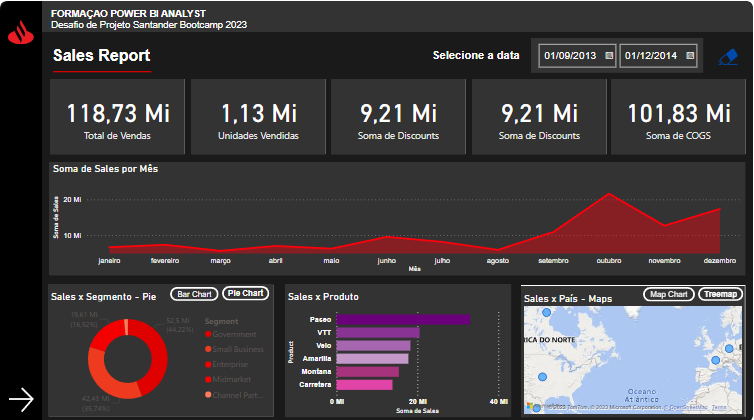

What the dashboard file says about the page in this screenshot:
{"tool":"powerbi","page":{"name":"Página 1","canvas":[1280,720],"ordinal":0},"visuals":[{"type":"shape","box":[11.7,8.3,1255,701.7],"z":0},{"type":"slicer","fields":{"Values":["financials.Date"]},"box":[895.5,69.3,286.9,58],"z":0,"group":"g2"},{"type":"shape","box":[99.7,121.2,164.2,12.3],"z":0,"group":"g5"},{"type":"shape","box":[94.3,138.6,224.3,125],"z":0,"group":"g1"},{"type":"shape","box":[880.3,482.4,374.4,218.9],"z":0,"group":"g3"},{"type":"shape","box":[11.7,8.3,70,701.7],"z":1000},{"type":"textbox","box":[92.7,80.5,186.8,40.7],"z":1000,"group":"g5"},{"type":"textbox","box":[712.5,82.9,183,34.7],"z":1000,"group":"g2"},{"type":"shape","box":[328.6,138.6,224.3,125],"z":1000,"group":"g1"},{"type":"donutChart","title":"Sales x Segmento - Pie","fields":{"Category":["financials.Segment"],"Y":["Sum(financials. Sales)"]},"box":[91,480.5,376.1,221],"z":1000,"group":"g4"},{"type":"map","title":"Sales x País - Maps","fields":{"Category":["financials.Country"],"Size":["Sum(financials. Sales)"]},"box":[880.1,482.4,373,219],"z":1000,"group":"g3"},{"type":"actionButton","title":"Botão - Treemap","box":[1174.4,485.6,75.6,23.3],"z":1500,"group":"g3"},{"type":"actionButton","title":"Botão - Map","box":[1083,485.6,86.7,24.4],"z":1750,"group":"g3"},{"type":"image","box":[10,33.3,71.7,53.3],"z":2000},{"type":"image","box":[1199.5,79.2,50.4,41.8],"z":2000,"group":"g2"},{"type":"shape","box":[562.9,138.6,224.3,125],"z":2000,"group":"g1"},{"type":"actionButton","title":"Botão - Bar","box":[294,485.6,81.1,23.3],"z":2000,"group":"g4"},{"type":"shape","box":[81.7,8.3,1185,51.7],"z":3000},{"type":"shape","box":[797.2,138.6,224.3,125],"z":3000,"group":"g1"},{"type":"actionButton","title":"Botão - Pie","box":[381.1,484.4,78.9,24.4],"z":3000,"group":"g4"},{"type":"textbox","box":[92.2,17.3,439.2,51.8],"z":4000},{"type":"shape","box":[1030,138.6,224,125],"z":4000,"group":"g1"},{"type":"group","id":"g1","title":"Cartões","box":[94.3,138.6,1160,125.7],"z":5000},{"type":"card","fields":{"Values":["Sum(financials. Sales)"]},"box":[94.3,138.6,224.3,125.7],"z":5000,"group":"g1"},{"type":"card","fields":{"Values":["Sum(financials.Units Sold)"]},"box":[328.6,138.6,224.3,125.7],"z":6000,"group":"g1"},{"type":"shape","box":[488.2,481,374.4,218.9],"z":6000},{"type":"card","fields":{"Values":["Sum(financials.Discounts)"]},"box":[562.9,138.6,224.3,125.7],"z":7000,"group":"g1"},{"type":"shape","box":[93.6,481,374,218.9],"z":7000},{"type":"card","fields":{"Values":["Sum(financials.Discounts)"]},"box":[797.2,138.6,224.3,125.7],"z":8000,"group":"g1"},{"type":"shape","box":[92.9,277.1,1157.1,188.6],"z":8000},{"type":"card","fields":{"Values":["Sum(financials.COGS)"]},"box":[1030,138.6,224.3,125.7],"z":9000,"group":"g1"},{"type":"stackedAreaChart","fields":{"Category":["financials.Date.Variation.Hierarquia de datas.Mês"],"Y":["Sum(financials. Sales)"]},"box":[94.3,277.1,1158.6,188.6],"z":9000},{"type":"clusteredBarChart","title":"Sales x Produto","fields":{"Category":["financials.Product"],"Y":["Sum(financials. Sales)"]},"box":[486.7,480,376.7,221.7],"z":10000},{"type":"group","id":"g2","title":"Filtro por data","box":[712.5,69.3,537.4,58],"z":11000},{"type":"actionButton","box":[1200,68.6,50,58.6],"z":12000},{"type":"group","id":"g3","title":"Sales x Country","box":[880,481.6,374.7,220.5],"z":13000},{"type":"group","id":"g4","title":"Sales x Segment","box":[91,479.1,376.1,222.4],"z":14000},{"type":"group","id":"g5","title":"Title Report","box":[92.7,80.5,186.8,53],"z":15000},{"type":"actionButton","box":[20,647.1,52.9,52.9],"z":16000}]}

Visuals, with their boxes in screenshot pixels (x1, y1, x2, y2), scaled from the page's 1280x720 canvas onto the 754x420 screenshot:
shape: 7:5:746:414
slicer - financials.Date: 528:40:697:74
shape: 59:71:155:78
shape: 56:81:188:154
shape: 519:281:739:409
shape: 7:5:48:414
textbox: 55:47:165:71
textbox: 420:48:528:69
shape: 194:81:326:154
"Sales x Segmento - Pie" donutChart: 54:280:275:409
"Sales x País - Maps" map: 518:281:738:409
"Botão - Treemap" actionButton: 692:283:736:297
"Botão - Map" actionButton: 638:283:689:298
image: 6:19:48:51
image: 707:46:736:71
shape: 332:81:464:154
"Botão - Bar" actionButton: 173:283:221:297
shape: 48:5:746:35
shape: 470:81:602:154
"Botão - Pie" actionButton: 224:283:271:297
textbox: 54:10:313:40
shape: 607:81:739:154
"Cartões" group: 56:81:739:154
card - Sum(financials. Sales): 56:81:188:154
card - Sum(financials.Units Sold): 194:81:326:154
shape: 288:281:508:408
card - Sum(financials.Discounts): 332:81:464:154
shape: 55:281:275:408
card - Sum(financials.Discounts): 470:81:602:154
shape: 55:162:736:272
card - Sum(financials.COGS): 607:81:739:154
stackedAreaChart - financials.Date.Variation.Hierarquia de datas.Mês x Sum(financials. Sales): 56:162:738:272
"Sales x Produto" clusteredBarChart: 287:280:509:409
"Filtro por data" group: 420:40:736:74
actionButton: 707:40:736:74
"Sales x Country" group: 518:281:739:410
"Sales x Segment" group: 54:279:275:409
"Title Report" group: 55:47:165:78
actionButton: 12:377:43:408
